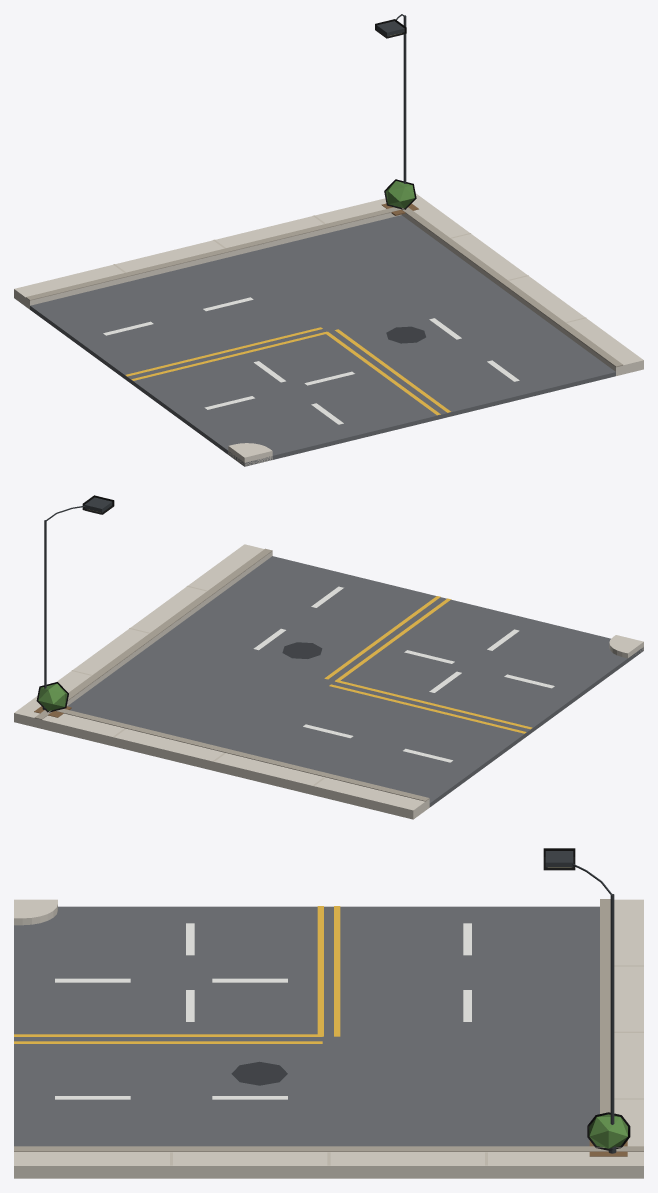
Rendered from Yol_kose_cc.fbx.
The picture shows the model from 3 angles, top to bottom: view 1: azimuth 30°, elevation 25°; view 2: azimuth 150°, elevation 25°; view 3: azimuth 270°, elevation 25°; orthographic projection. The views are drawn at different scales.
Visible parts, largest first — view 1: Yol_kose_cc; view 2: Yol_kose_cc; view 3: Yol_kose_cc.
Part boxes in pixels (x1,y1,x2,y2): Yol_kose_cc: [14, 14, 643, 466]; Yol_kose_cc: [14, 495, 643, 819]; Yol_kose_cc: [14, 848, 643, 1178].
Bounding box in the file's own units: 10 × 5.04 × 10.
